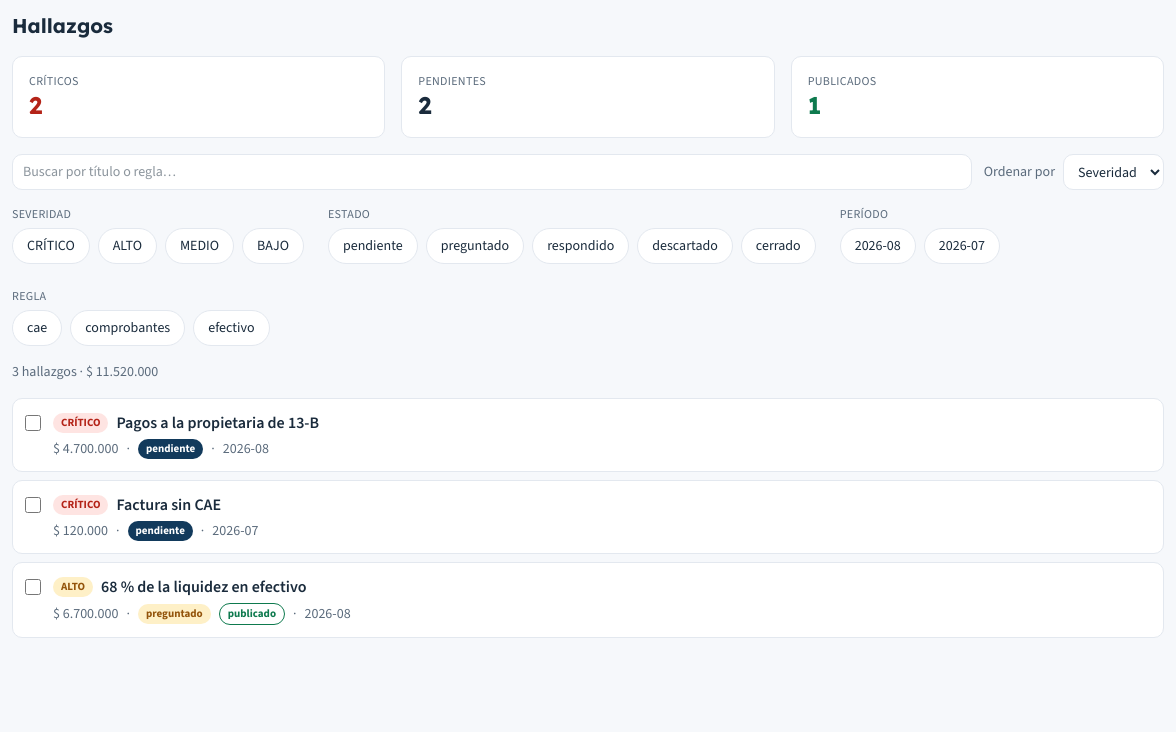
Test: cambiar un filtro limpia la selección de lote (no se opera sobre filas ocultas)
The image size is (1176, 732).
Check: the text "Pagos a la propietaria de 13-B" is shown, box [116, 411, 319, 435]
Click the checkbox named "Seleccionar Pagos a la propietaria" at (33, 423), box [25, 415, 41, 431]
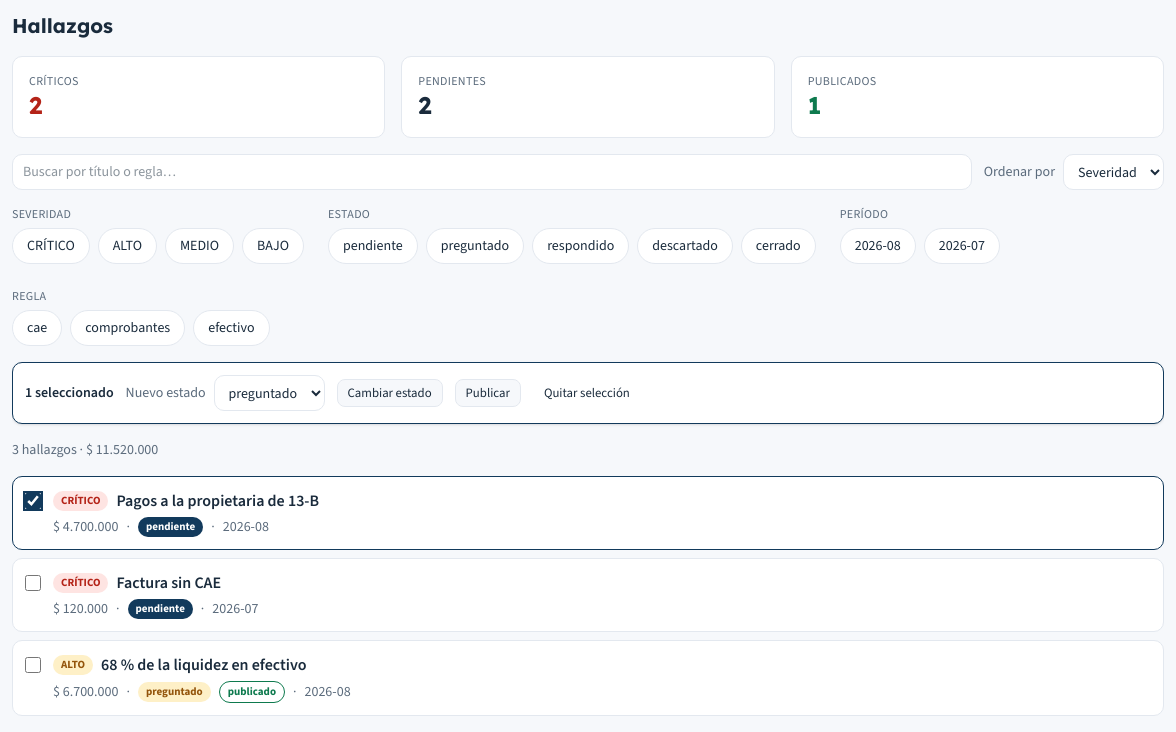
Check: the text "1 seleccionado" is shown, box [25, 383, 114, 403]
el filtro ALTO oculta la fila seleccionada (CRÍTICO): la selección se limpia
Click the button "ALTO" at (127, 246), box [98, 228, 157, 264]
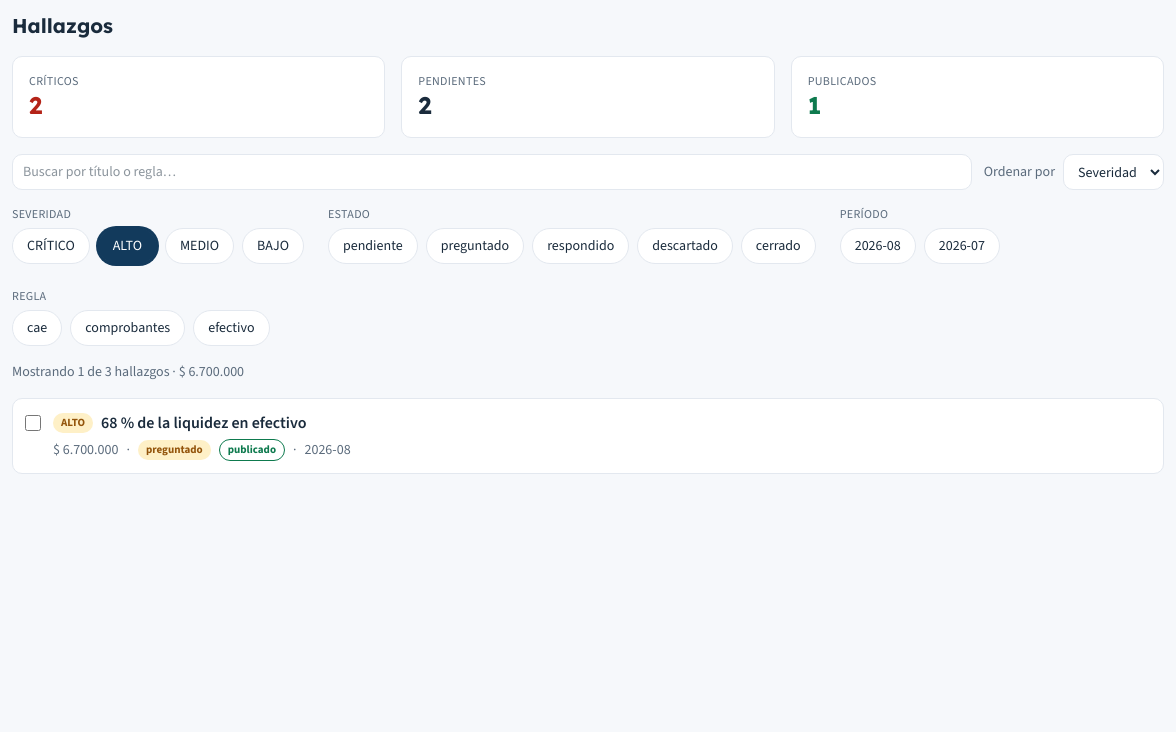
Check: the text "68 % de la liquidez en efectivo" is shown, box [101, 411, 307, 435]
Check: the text "1 seleccionado" is gone
